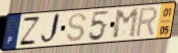5: (87, 9, 111, 42)
J: (39, 12, 62, 47)
M: (112, 7, 141, 41)
R: (133, 5, 160, 40)
S: (65, 12, 88, 44)
Z: (17, 16, 43, 47)
